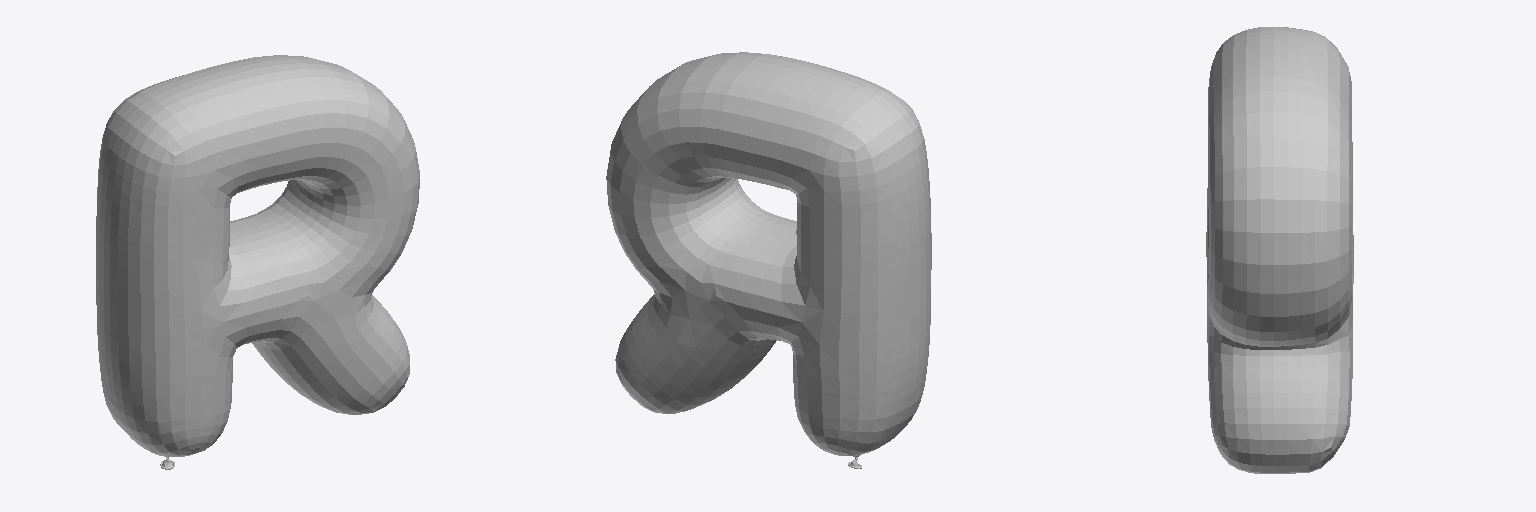
3 views of the same model, side by side, from view 1: azimuth 30°, elevation 25°; view 2: azimuth 150°, elevation 25°; view 3: azimuth 270°, elevation 25° (orthographic).
Parts seen in each view (by area): view 1: Balloon_Alphabet_Subdivision_R_Alphabet_R; view 2: Balloon_Alphabet_Subdivision_R_Alphabet_R; view 3: Balloon_Alphabet_Subdivision_R_Alphabet_R.
Boxes of the visible parts, x1=… form: Balloon_Alphabet_Subdivision_R_Alphabet_R: x1=96, y1=55, x2=419, y2=469; Balloon_Alphabet_Subdivision_R_Alphabet_R: x1=606, y1=52, x2=931, y2=468; Balloon_Alphabet_Subdivision_R_Alphabet_R: x1=1206, y1=27, x2=1353, y2=473.
Size of the model in its own units: 42.15 by 51.4 by 18.05.